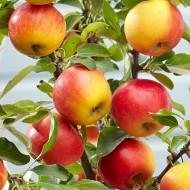apple: (109, 77, 171, 137), (5, 1, 66, 60), (53, 66, 110, 126), (123, 1, 184, 57), (96, 137, 155, 187), (31, 117, 85, 168)
